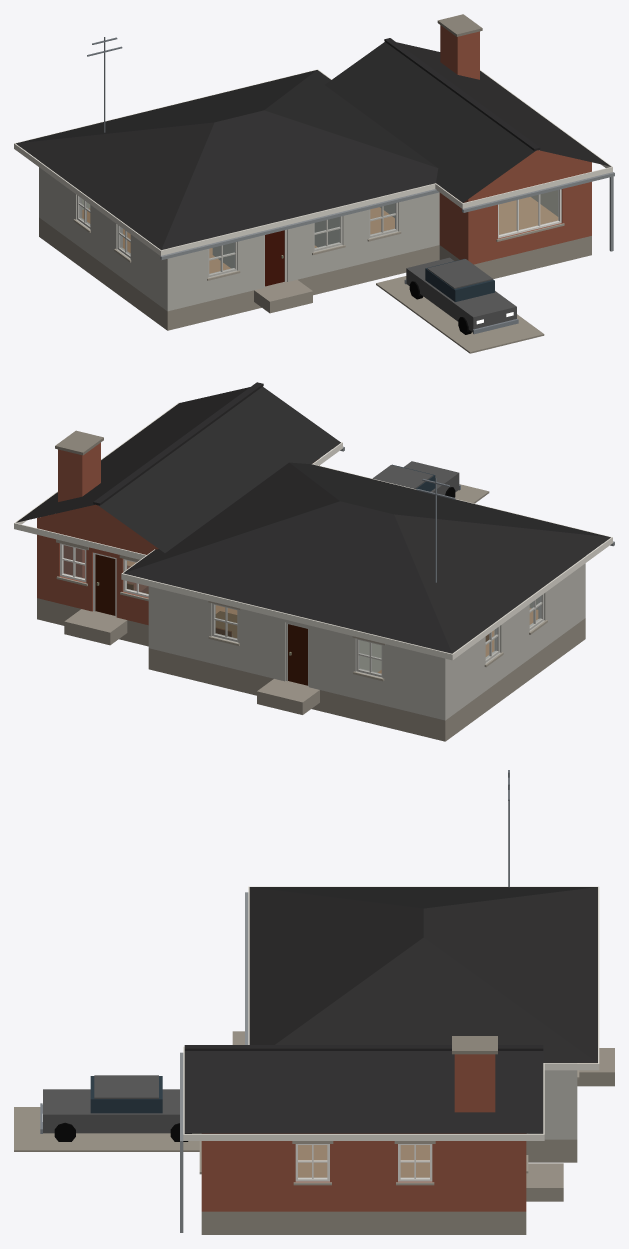
Rendered from ranch_c.glb.
3 views of the same model, one above another, from view 1: azimuth 30°, elevation 25°; view 2: azimuth 150°, elevation 25°; view 3: azimuth 270°, elevation 25° (orthographic). The views are drawn at different scales.
Parts seen in each view (by area): view 1: LOD0, LEAF0; view 2: LOD0, LEAF2, LEAF1, FURN; view 3: LOD0.
Boxes of the visible parts, bbox=[...] form: LOD0: bbox=[14, 14, 614, 353]; LEAF0: bbox=[265, 230, 284, 286]; LOD0: bbox=[14, 382, 614, 741]; LEAF2: bbox=[95, 554, 115, 615]; LEAF1: bbox=[288, 624, 307, 685]; FURN: bbox=[127, 565, 489, 641]; LOD0: bbox=[14, 770, 614, 1234].
Size of what is drawn, in the model's own units: 17.22 by 8.19 by 17.6.
